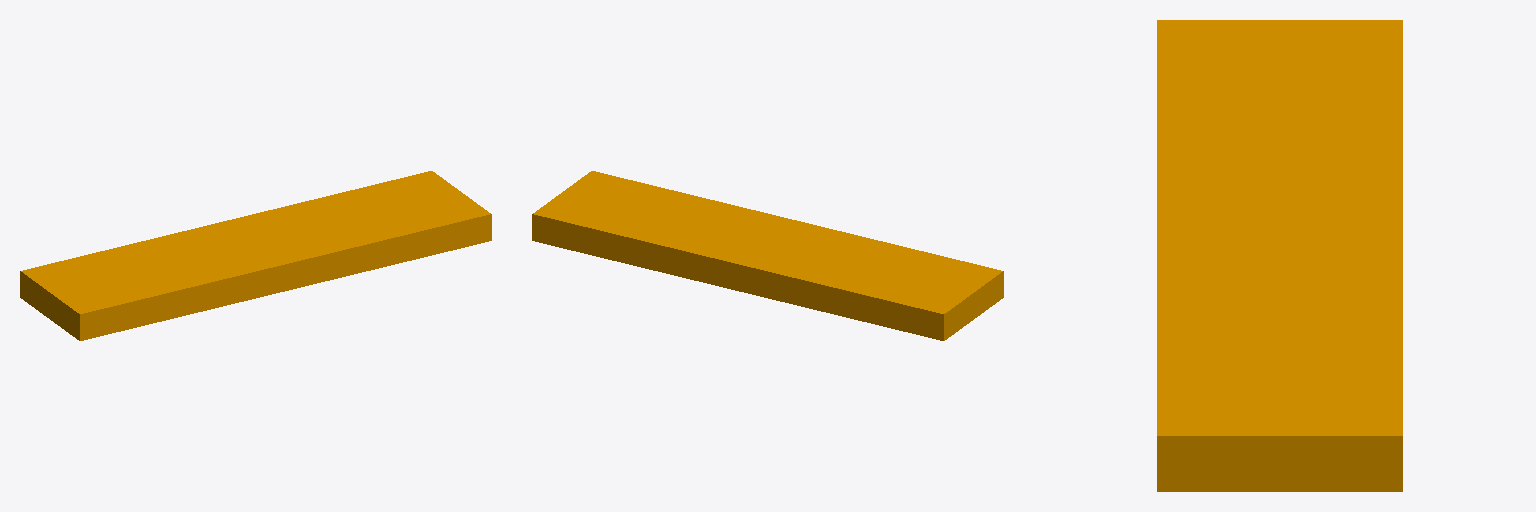
URDF robot description (benchmark_part_9):
<robot name="benchmark_part_9">
  <link name="base_link">
    <visual>
      <geometry>
        <mesh filename="benchmark_parts_stl/benchmark_part_9.stl" scale="0.001 0.001 0.001" />
      </geometry>
    <origin xyz="0.31 0.0 -0.0025" rpy="0 0 0" /></visual>
    <collision>
      <geometry>
        <mesh filename="benchmark_parts_stl/benchmark_part_9_vhacd.obj" scale="0.01 0.01 0.01" />
      </geometry>
    <origin xyz="0.31 0.0 -0.0025" rpy="0 0 0" /></collision>
    <inertial>
      <mass value="0.1" />
      <inertia ixx="0.001" ixy="0.0" ixz="0.0" iyy="0.001" iyz="0.0" izz="0.001" />
    </inertial>
  </link>
</robot>

--- Facts derived from the render (not from the file) ---
3 views of the same robot in one strip: view 1: azimuth 30°, elevation 25°; view 2: azimuth 150°, elevation 25°; view 3: azimuth 270°, elevation 25° (orthographic).
Robot: benchmark_part_9 — 1 links, 0 joints (none); root link base_link; default pose: every joint at zero.
Links seen in each view (by area): view 1: base_link; view 2: base_link; view 3: base_link.
Boxes of the visible links, bbox=[...] form: base_link: bbox=[20, 171, 491, 340]; base_link: bbox=[532, 171, 1003, 340]; base_link: bbox=[1157, 20, 1402, 491].
Bounding box of the posed robot: 0.08 × 0.02 × 0.005 m (x, y, z).
1 mesh visuals loaded from 1 distinct referenced files (1 binary STL).